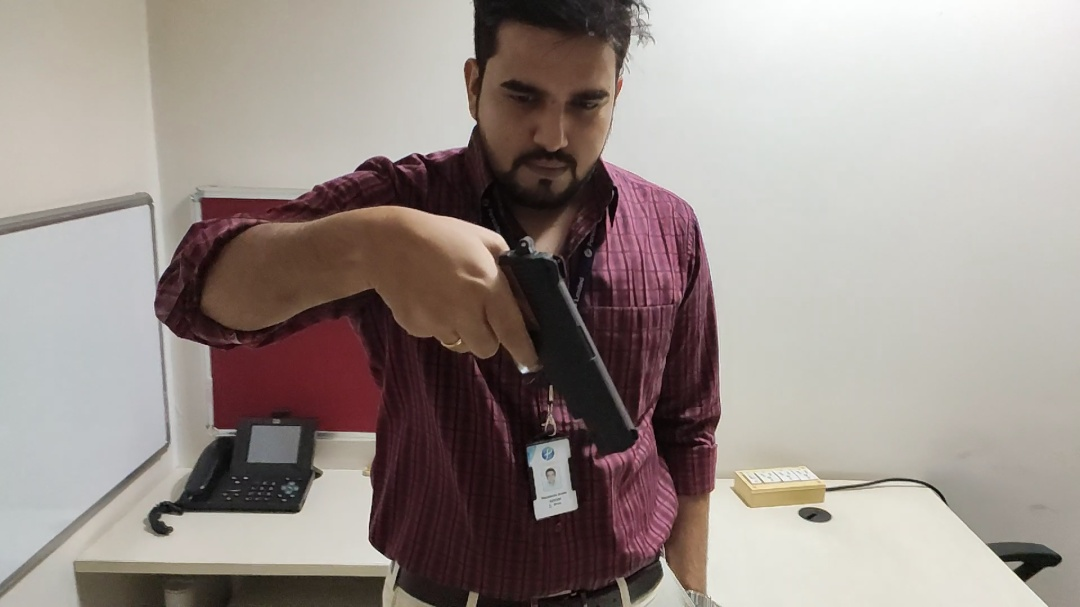gun: (419, 232, 652, 457)
